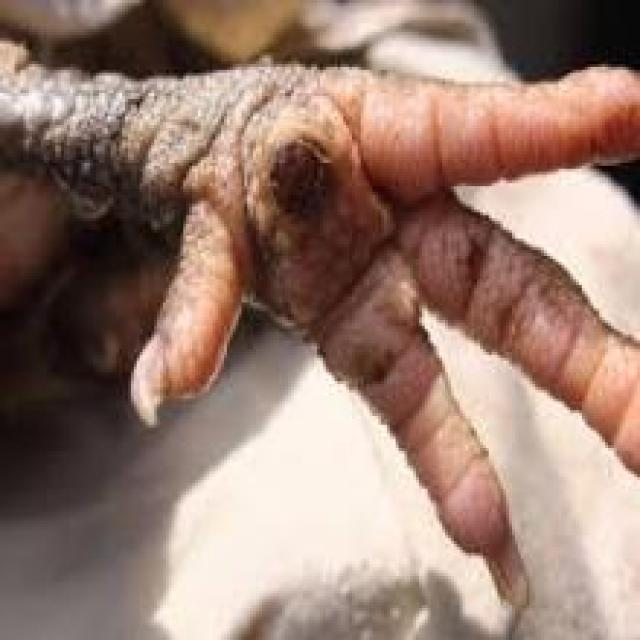Bumble foot: (193, 130, 404, 270)
